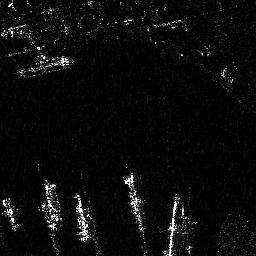ship: (16, 54, 75, 78), (42, 183, 61, 227), (75, 193, 91, 241)
